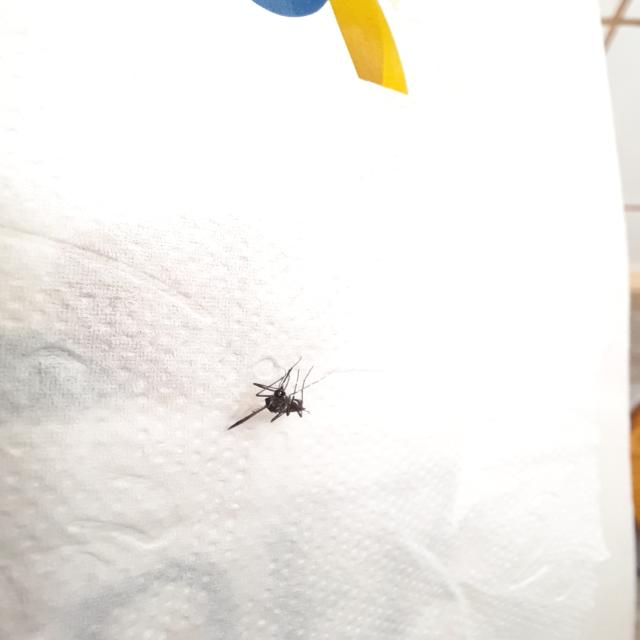albopictus: (223, 351, 329, 431)
